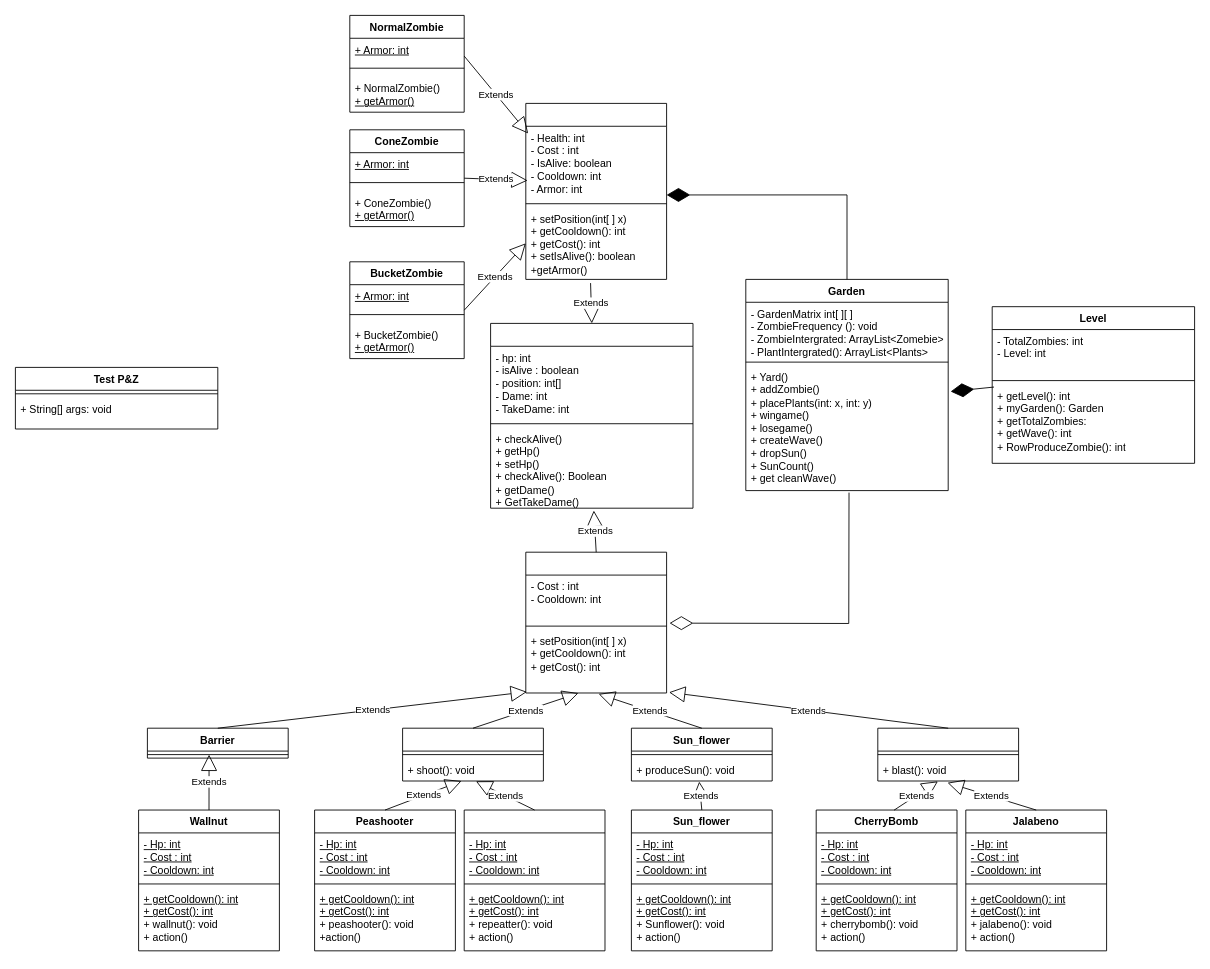
Some shapes in this 1210 by 969 pixel diagram are drawn without their labels. The shapes that lost their labels are listed below. From the top down, each one's box as (x1, y1, x2, y2) in pixels, then its label:
(525, 103, 667, 279): Zombie
(490, 323, 693, 508): Character
(525, 551, 667, 693): Plants
(402, 727, 543, 781): Shooter
(877, 727, 1019, 781): Bomb
(463, 809, 605, 951): Repeater
